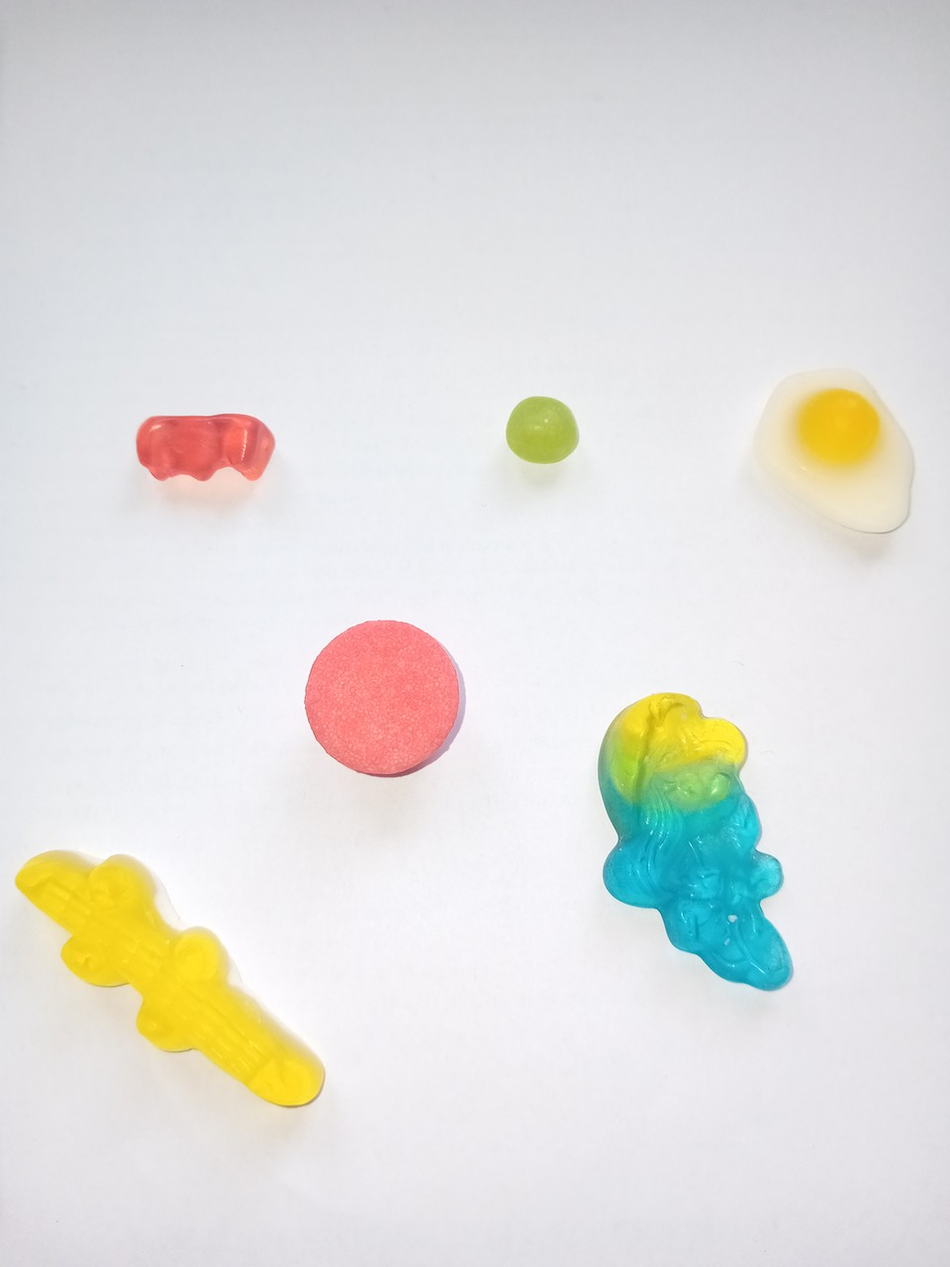crocodile_jaune: (9, 846, 336, 1118)
dragibus_vert: (500, 387, 587, 466)
oeuf_oeuf: (743, 360, 919, 544)
ourson_orangeFonce: (128, 409, 281, 484)
schtroumpf_bleu-jaune: (583, 689, 802, 995)
tagada_fraise: (291, 616, 468, 777)
